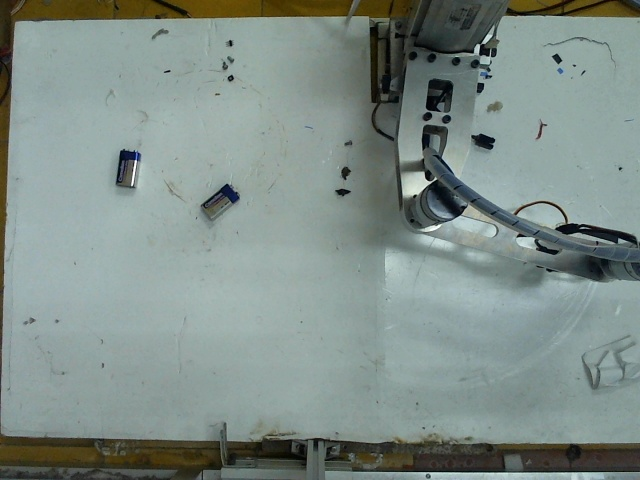battery: (200, 179, 238, 222), (113, 145, 140, 187)
